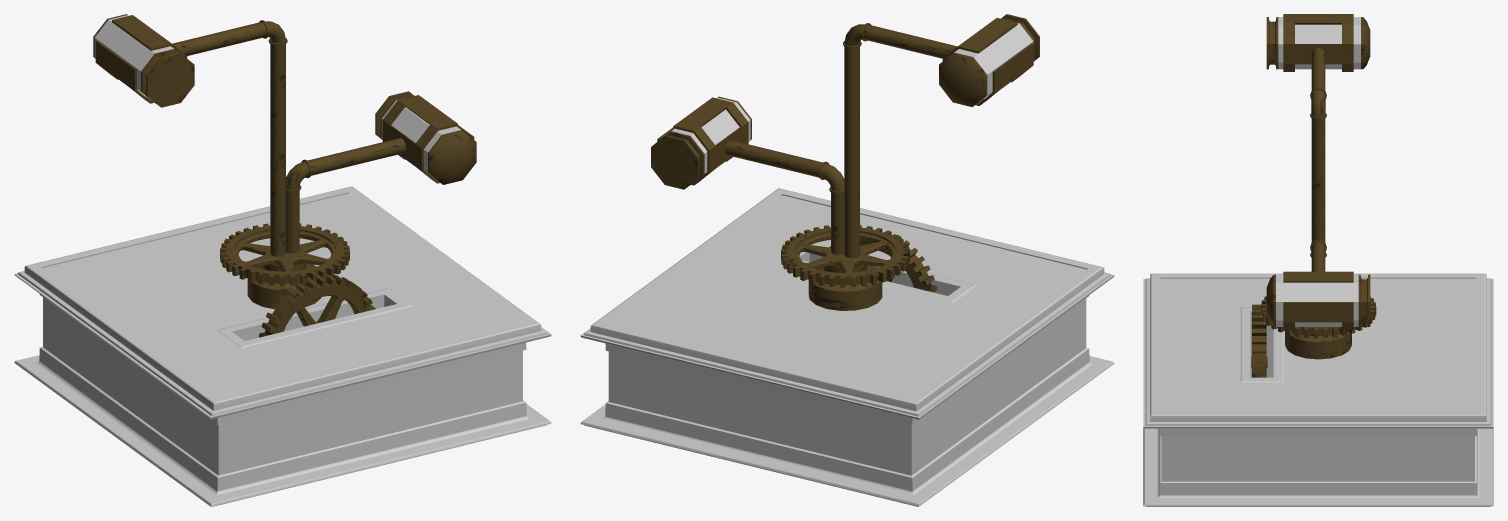
The model's file is PlatformSmallHazardSpinning.fbx.
3 views of the same model, side by side, from view 1: azimuth 30°, elevation 25°; view 2: azimuth 150°, elevation 25°; view 3: azimuth 270°, elevation 25° (orthographic). The views are drawn at different scales.
Parts seen in each view (by area): view 1: PlatformSmallHazardSpinning, ShaftArms, GearDriver; view 2: PlatformSmallHazardSpinning, ShaftArms, GearDriver; view 3: PlatformSmallHazardSpinning, ShaftArms, GearDriver.
Part boxes in pixels (x1=…): PlatformSmallHazardSpinning: x1=14, y1=186, x2=551, y2=506; ShaftArms: x1=93, y1=14, x2=476, y2=308; GearDriver: x1=259, y1=274, x2=375, y2=337; PlatformSmallHazardSpinning: x1=580, y1=188, x2=1114, y2=506; ShaftArms: x1=651, y1=14, x2=1039, y2=310; GearDriver: x1=830, y1=227, x2=937, y2=292; PlatformSmallHazardSpinning: x1=1143, y1=273, x2=1493, y2=506; ShaftArms: x1=1260, y1=14, x2=1376, y2=359; GearDriver: x1=1251, y1=304, x2=1267, y2=377.
Size of the model in its own units: 301 by 336 by 300.
